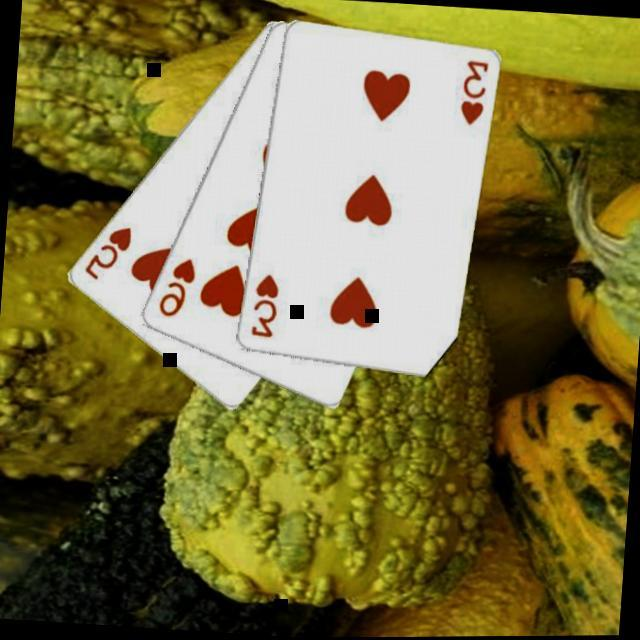3H: (454, 56, 491, 128), (246, 268, 282, 339)
5H: (78, 220, 134, 282)
9H: (152, 251, 198, 320)
